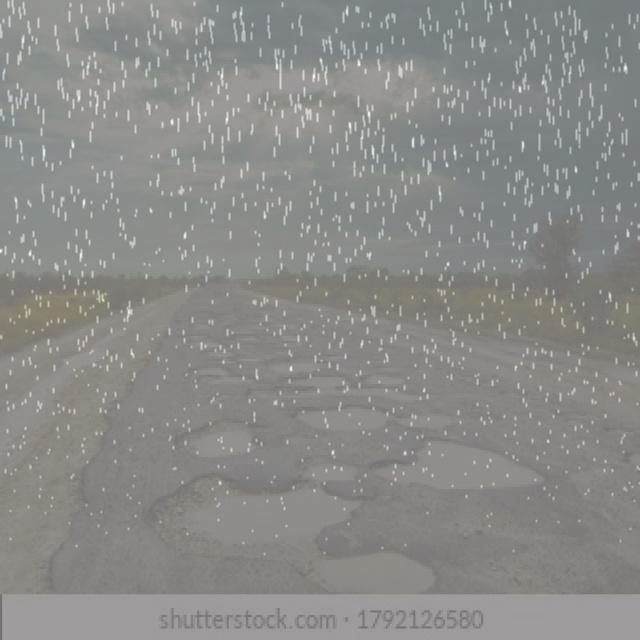Pothole: (144, 467, 438, 596), (366, 431, 568, 498), (171, 411, 262, 460), (286, 402, 392, 430), (250, 317, 318, 353), (391, 406, 487, 429), (283, 375, 354, 396), (183, 332, 231, 362), (188, 361, 251, 381), (260, 359, 328, 374), (360, 373, 410, 386), (246, 386, 286, 400), (324, 352, 353, 362)
